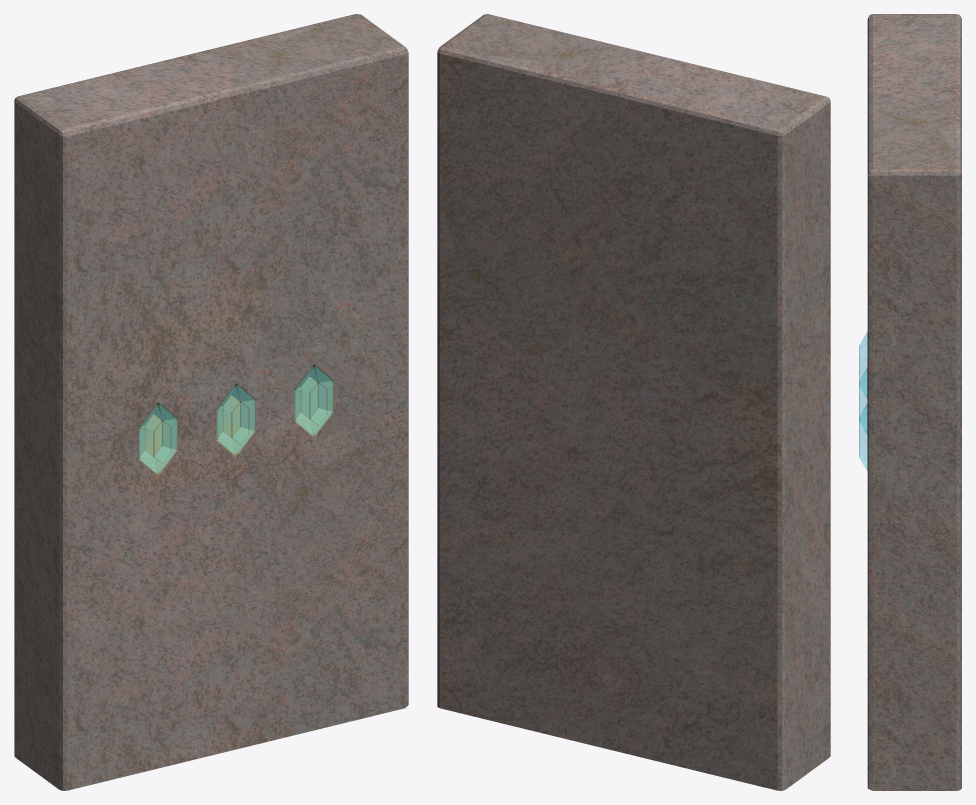
The model's file is SlidingDoor.glb.
The picture shows the model from 3 angles, left to right: view 1: azimuth 30°, elevation 25°; view 2: azimuth 150°, elevation 25°; view 3: azimuth 270°, elevation 25°; orthographic projection. The views are drawn at different scales.
Parts seen in each view (by area): view 1: Cube, Crystals; view 2: Cube; view 3: Cube, Crystals.
Part boxes in pixels (x1=…): Cube: x1=14, y1=14, x2=408, y2=790; Crystals: x1=139, y1=365, x2=333, y2=474; Cube: x1=437, y1=14, x2=830, y2=790; Cube: x1=867, y1=14, x2=961, y2=790; Crystals: x1=859, y1=332, x2=867, y2=470.
Bounding box in the file's own units: 2 × 3.63 × 0.5446.
3 materials, 2 textured.
